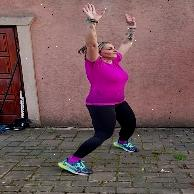jumping_jacks: (51, 5, 149, 176)
